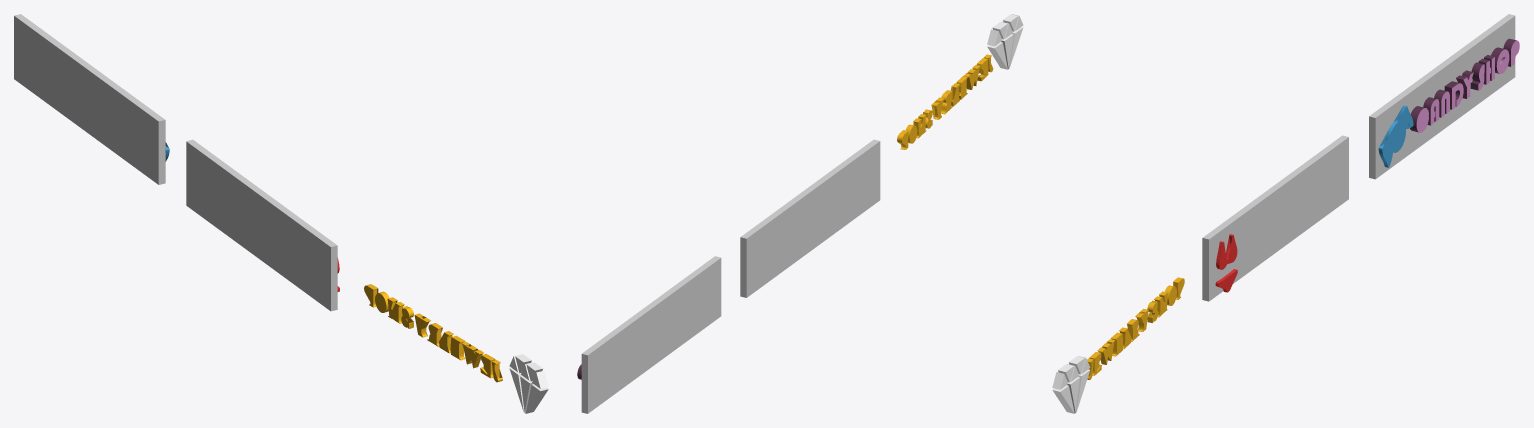
The model's file is shopsings.fbx.
3 views of the same model, side by side, from view 1: azimuth 30°, elevation 25°; view 2: azimuth 150°, elevation 25°; view 3: azimuth 330°, elevation 25° (orthographic). The views are drawn at different scales.
Visible parts, largest first — view 1: Cube, Cube.001, jewshop, diamond; view 2: Cube, Cube.001, jewshop, diamond; view 3: Cube, Cube.001, candyshop, jewshop, diamond, candy, bikini.
Part boxes in pixels (box(x1,y1,x2,y2)): Cube: box(186, 139, 337, 311); Cube.001: box(14, 14, 165, 184); jewshop: box(364, 284, 502, 382); diamond: box(509, 354, 548, 413); Cube: box(740, 139, 880, 297); Cube.001: box(581, 256, 721, 413); jewshop: box(897, 54, 993, 149); diamond: box(987, 14, 1023, 69); Cube: box(1202, 135, 1348, 301); Cube.001: box(1369, 14, 1515, 179); candyshop: box(1410, 38, 1519, 132); jewshop: box(1087, 277, 1184, 379); diamond: box(1052, 356, 1090, 413); candy: box(1378, 105, 1413, 167); bikini: box(1215, 234, 1237, 292).
Bounding box in the file's own units: 276 × 478 × 6738.
